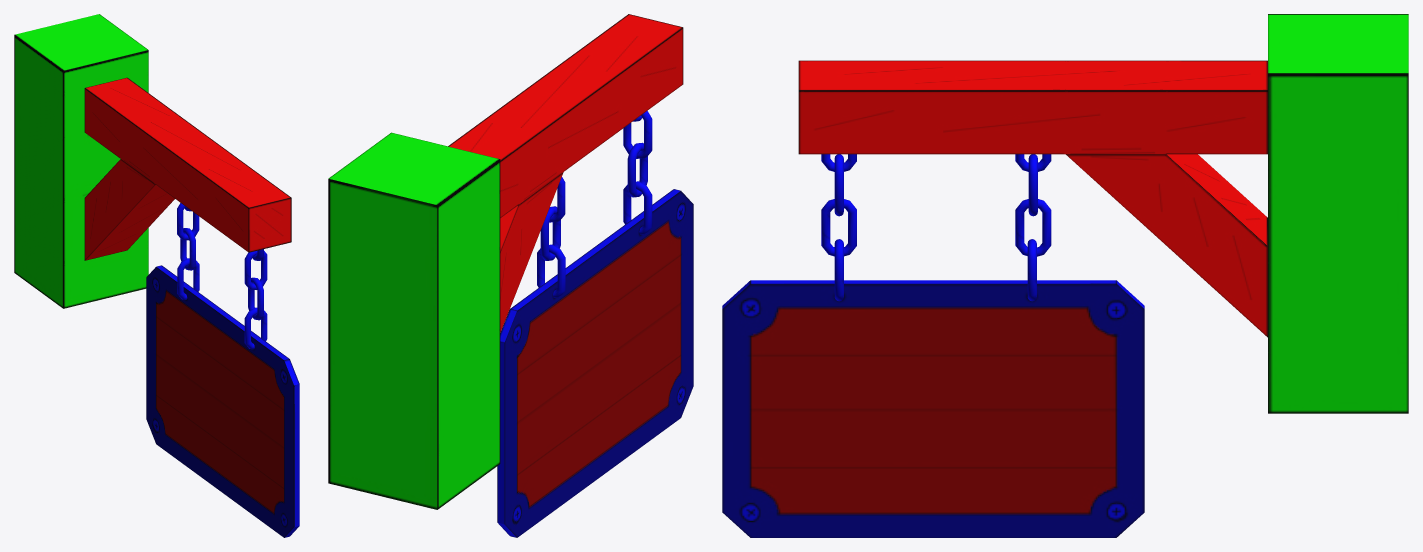
File: TavernSign01.fbx
The picture shows the model from 3 angles, left to right: view 1: azimuth 30°, elevation 25°; view 2: azimuth 150°, elevation 25°; view 3: azimuth 270°, elevation 25°; orthographic projection. The views are drawn at different scales.
Visible parts, largest first — view 1: Ring_8; view 2: Ring_8; view 3: Ring_8.
Part boxes in pixels (left/top/right/bottom): Ring_8: left=14, top=14, right=299, bottom=537; Ring_8: left=328, top=14, right=693, bottom=537; Ring_8: left=722, top=14, right=1408, bottom=537.
Bounding box in the file's own units: 30 × 116 × 146.
Materials: 1 (1 with a texture image).
